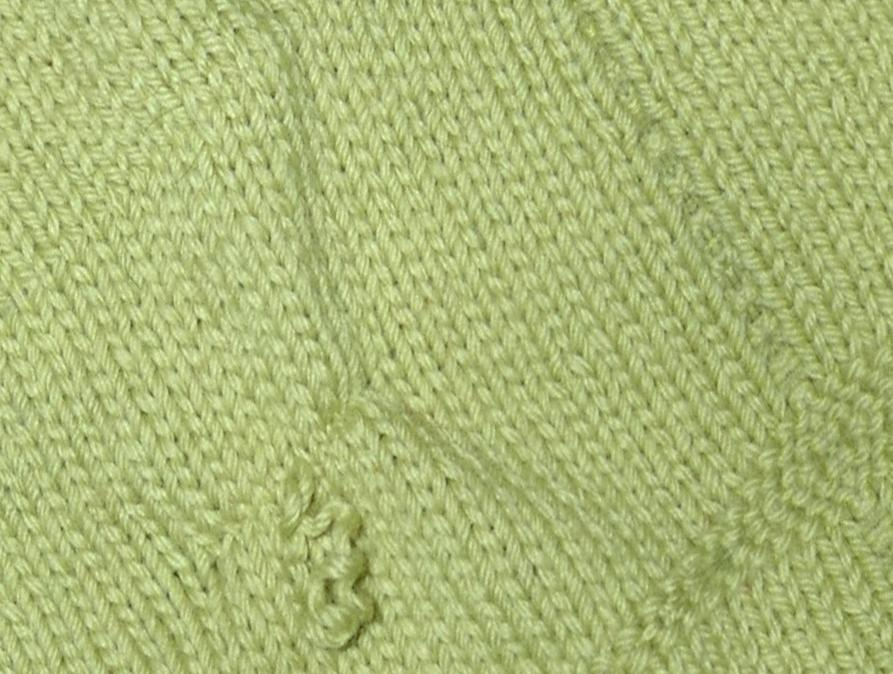knot: (284, 476, 384, 660)
